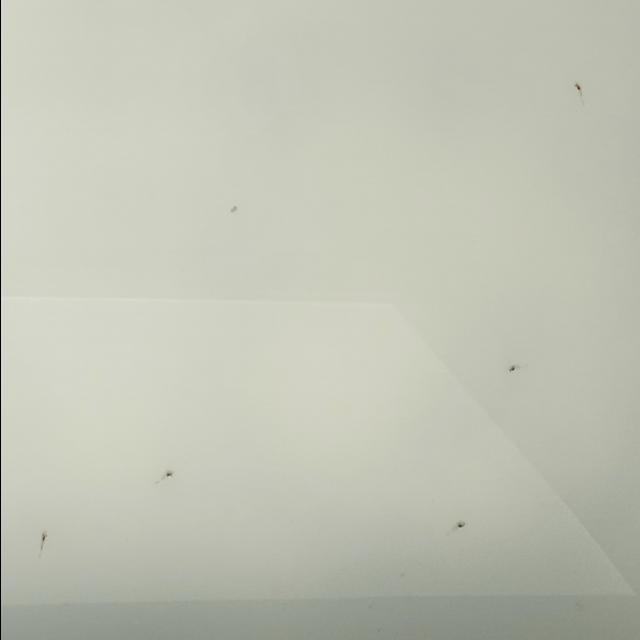shrimp-seed: (36, 532, 48, 552), (503, 360, 518, 376), (161, 466, 175, 482), (570, 80, 584, 96), (454, 518, 466, 531)
